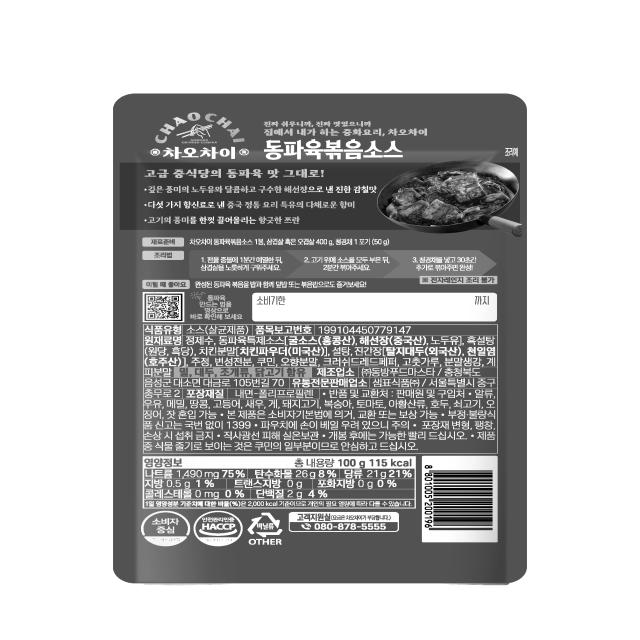Nutrition Label: (136, 452, 432, 512)
